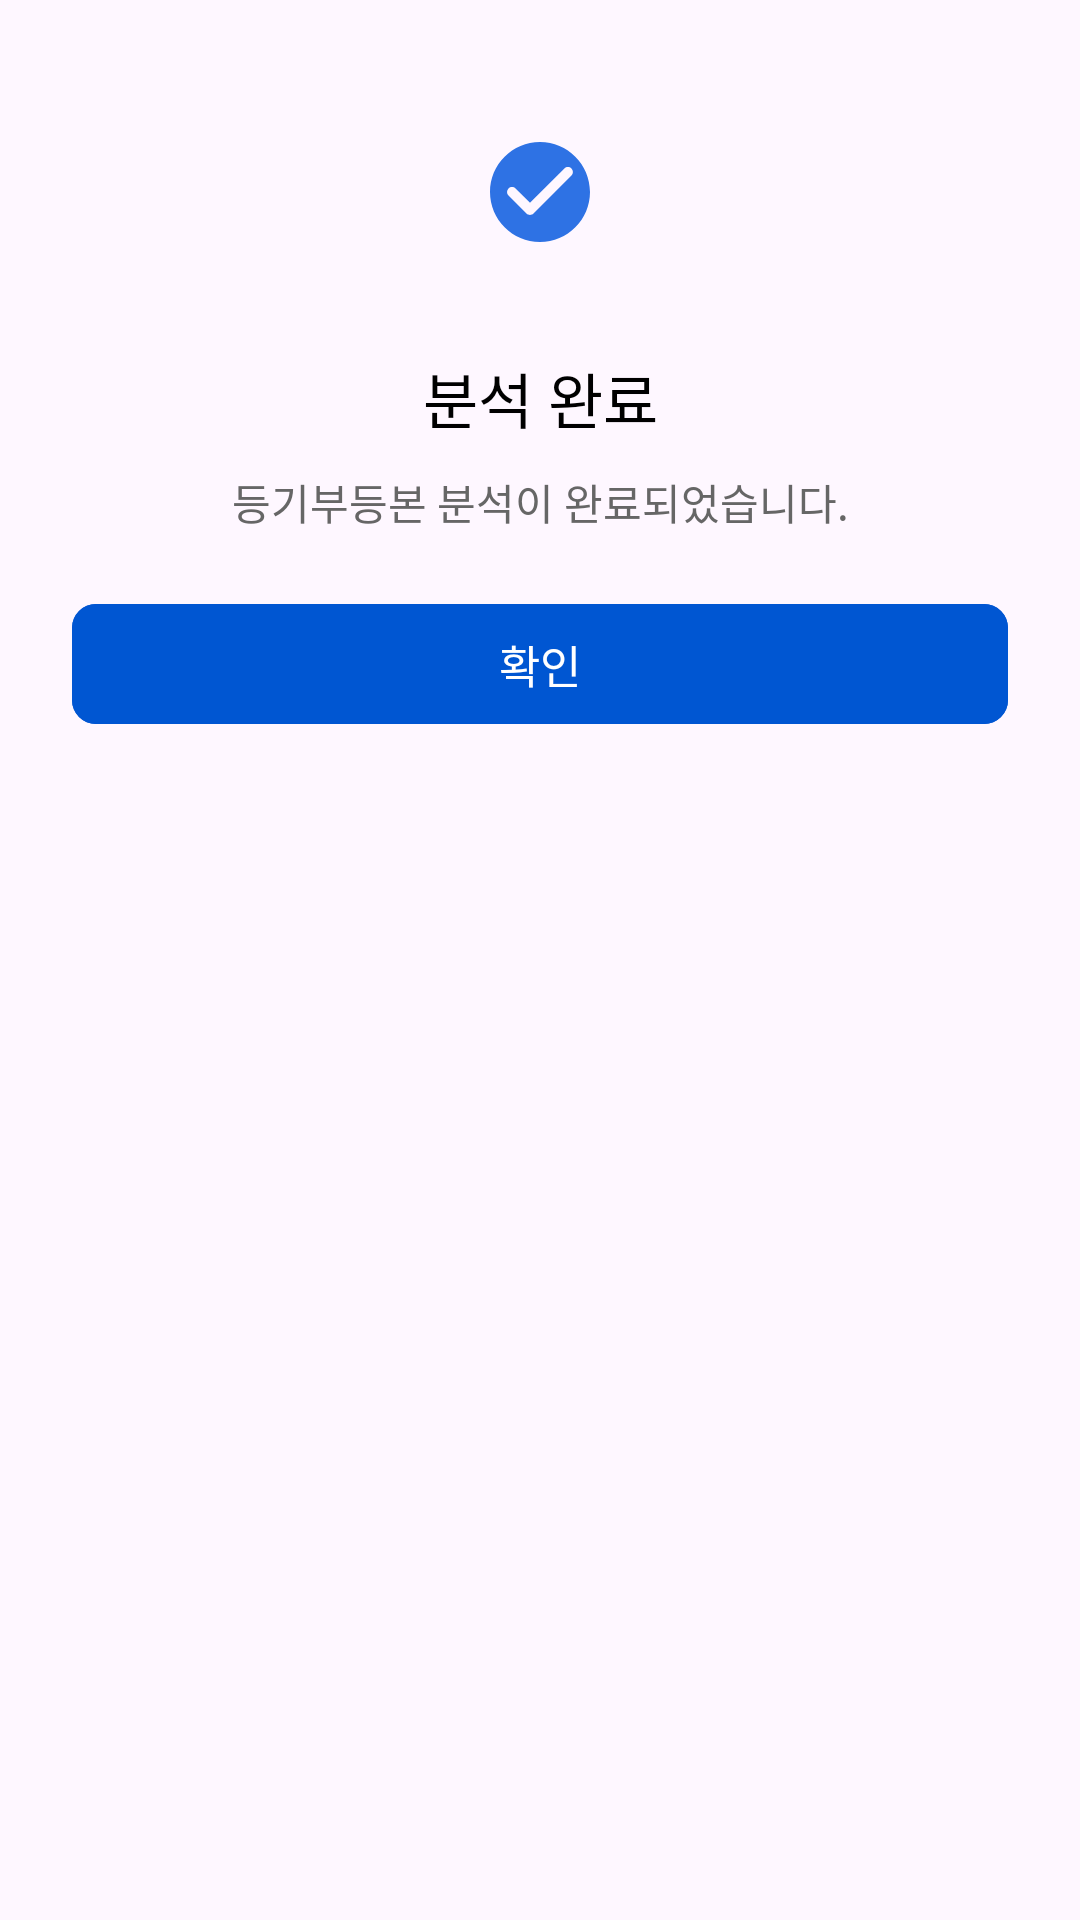

Point at icon controls on the screen. Image size 1080x1920, points as point (x, y).
check circle: point (540, 192)
